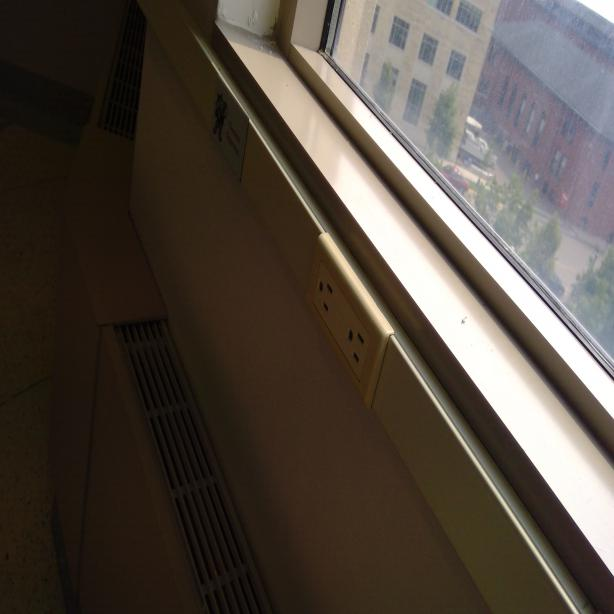typeb: (342, 320, 370, 375), (314, 270, 340, 324)
